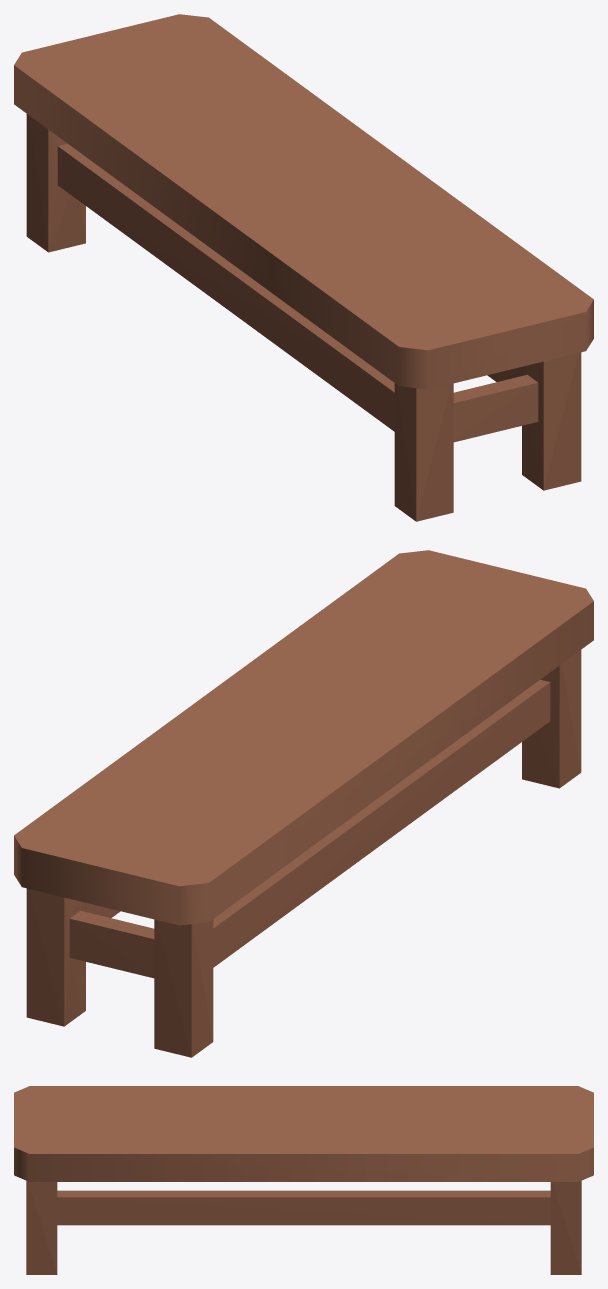
The model's file is fantasytown_stall_bench.glb.
3 views of the same model, one above another, from view 1: azimuth 30°, elevation 25°; view 2: azimuth 150°, elevation 25°; view 3: azimuth 270°, elevation 25° (orthographic). The views are drawn at different scales.
Parts seen in each view (by area): view 1: fantasytown_stall_bench; view 2: fantasytown_stall_bench; view 3: fantasytown_stall_bench.
Part boxes in pixels (<box>): fantasytown_stall_bench: <box>14,14,593,521</box>; fantasytown_stall_bench: <box>14,550,593,1057</box>; fantasytown_stall_bench: <box>14,1086,593,1274</box>.
Bounding box in the file's own units: 0.26 × 0.2255 × 0.94.
